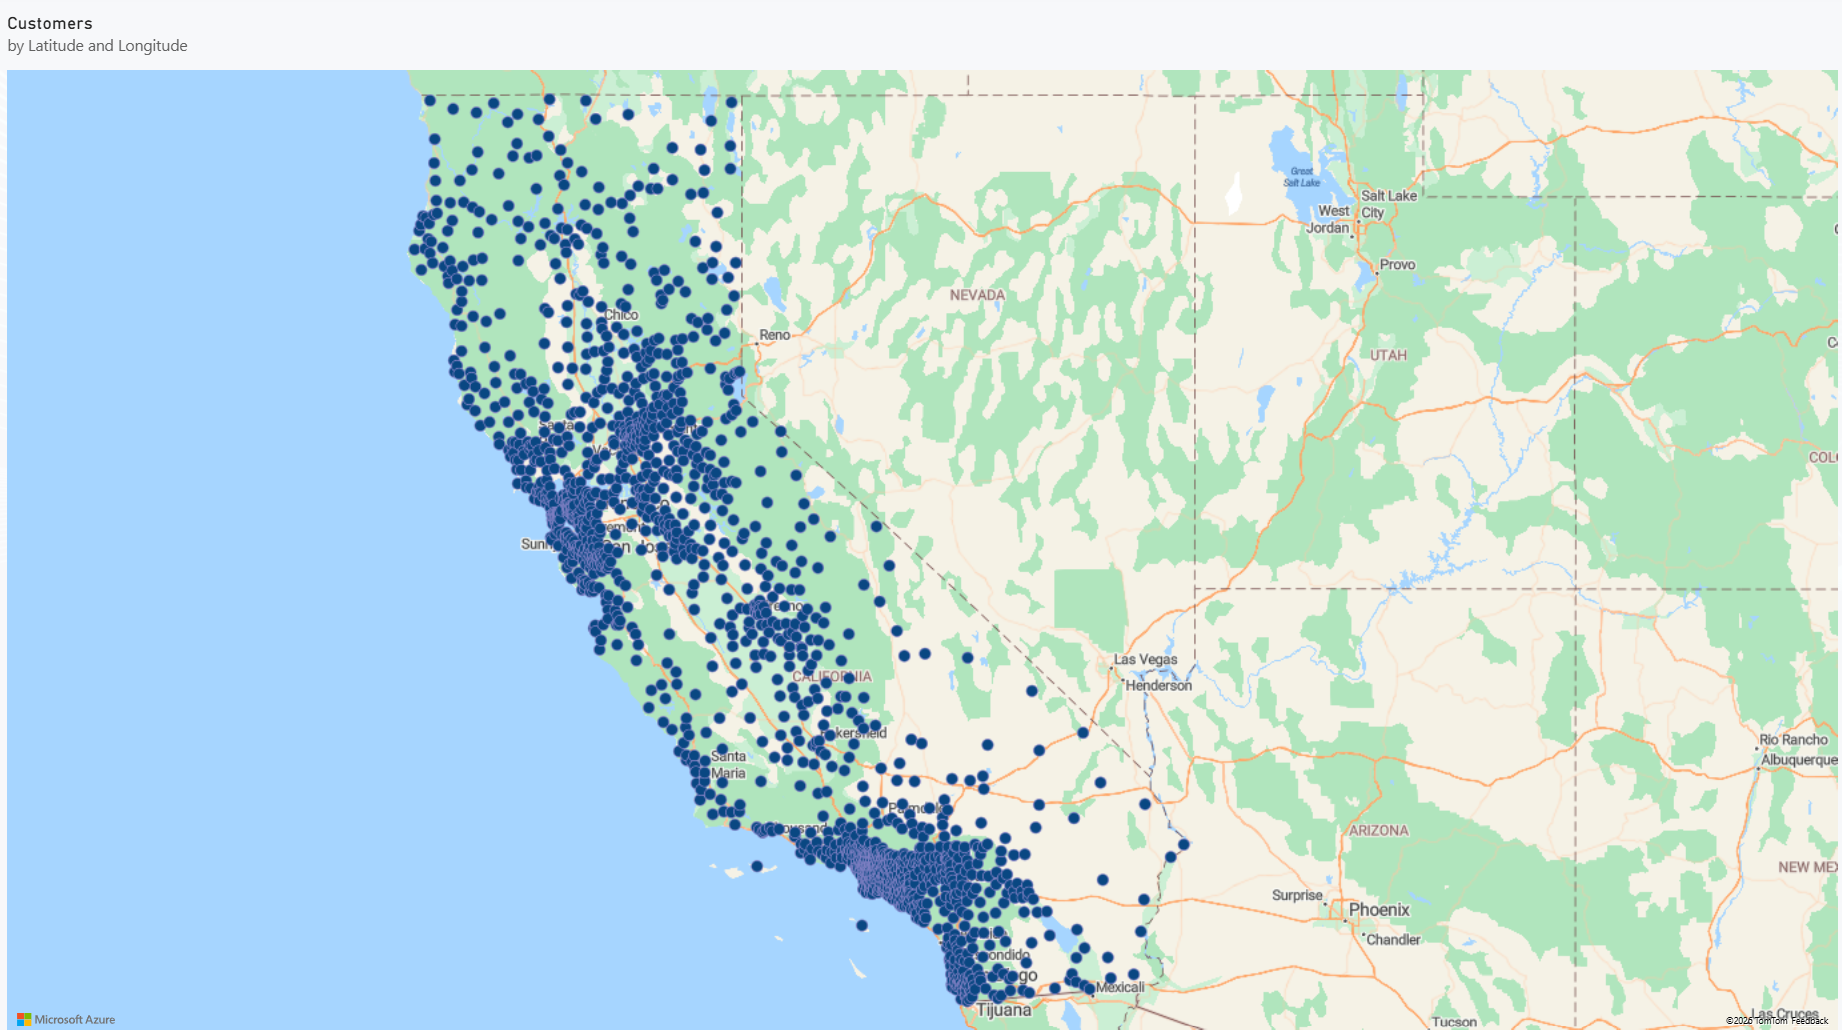

What the dashboard file says about the page in this screenshot:
{"tool":"powerbi","page":{"name":"Page 4","canvas":[1920,1080],"ordinal":3},"visuals":[{"type":"azureMap","fields":{"X":["customers_with_risk_score.Longitude"],"Y":["customers_with_risk_score.Latitude"]},"box":[0,0,1920,1080],"z":1000}]}

Visuals, with their boxes in screenshot pixels (x1, y1, x2, y2), scaled from the page's 1920x1080 canvas onto the 1842x1030 screenshot:
azureMap - customers_with_risk_score.Longitude x customers_with_risk_score.Latitude: crop(0, 0, 1841, 1029)
